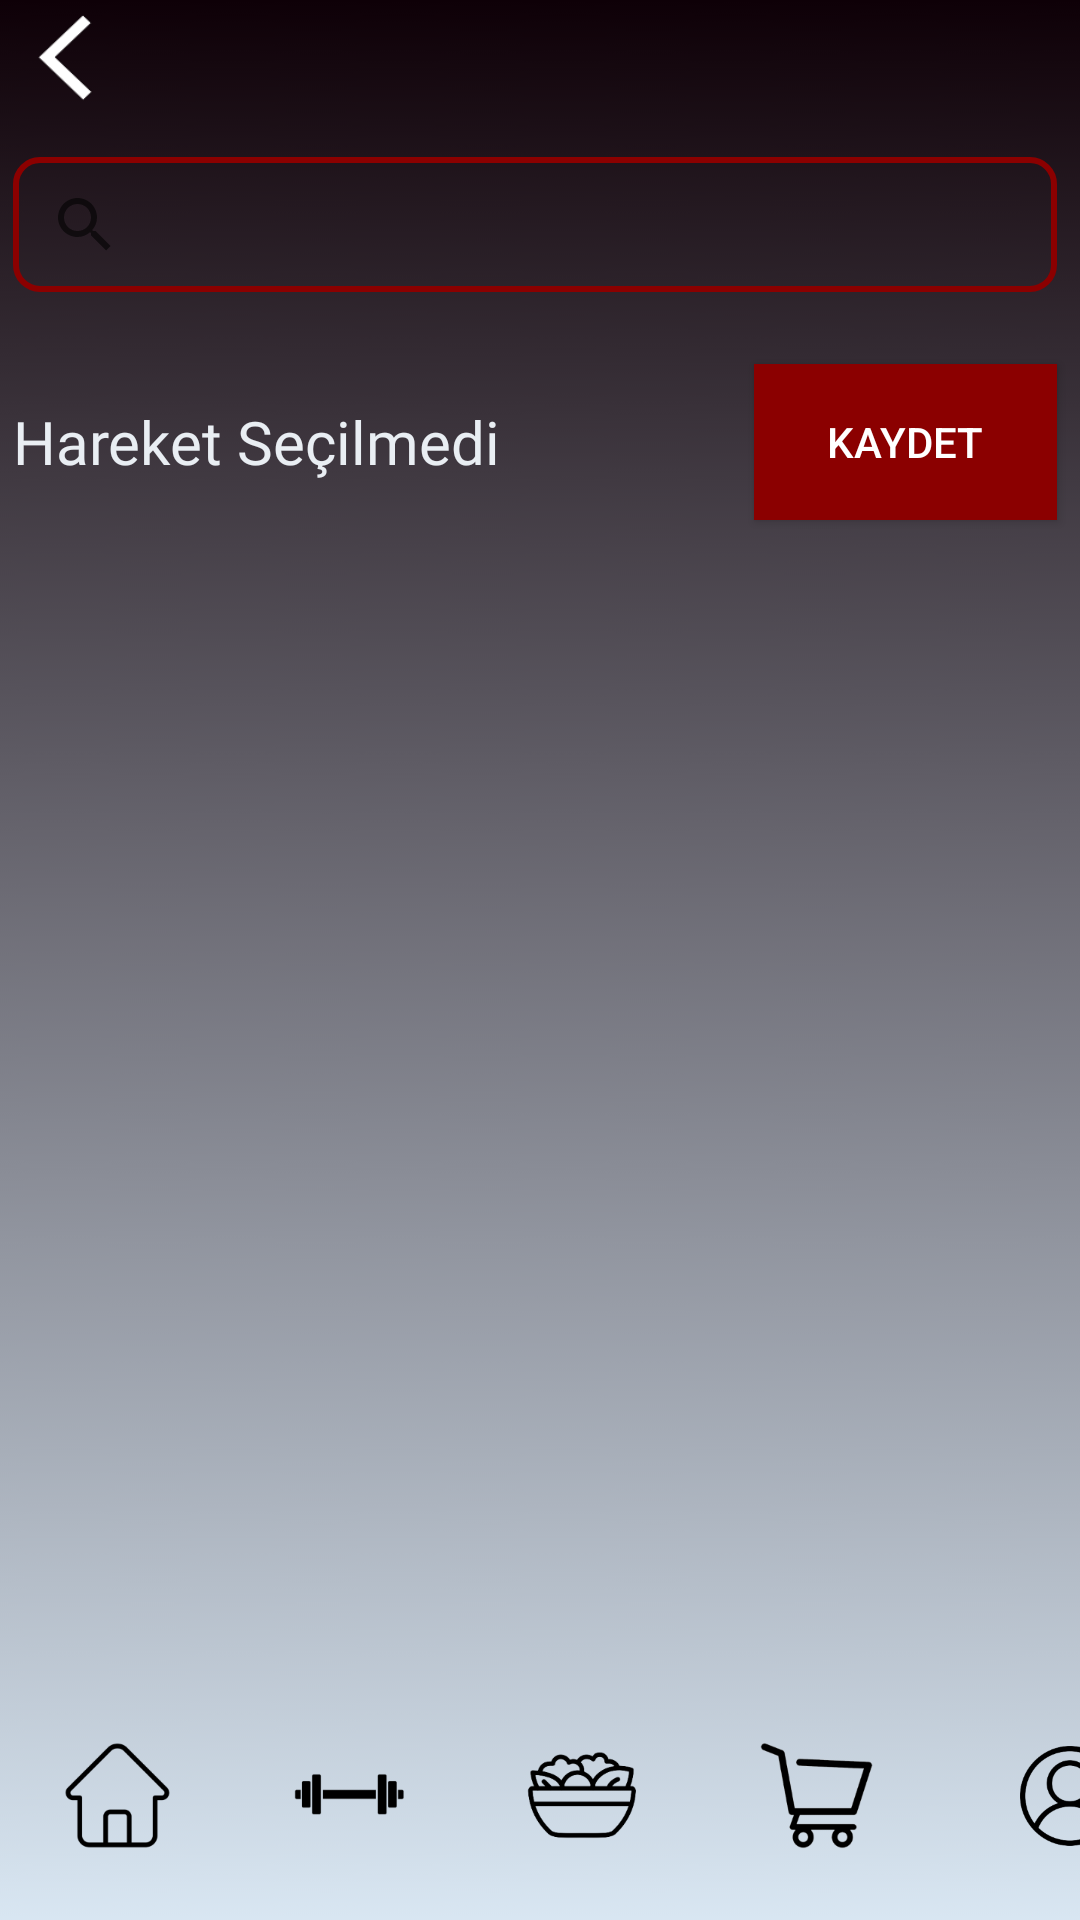

Where to tap for icons on this 1080x1920 app screen, as (x,y):
arrow: (65,58)
